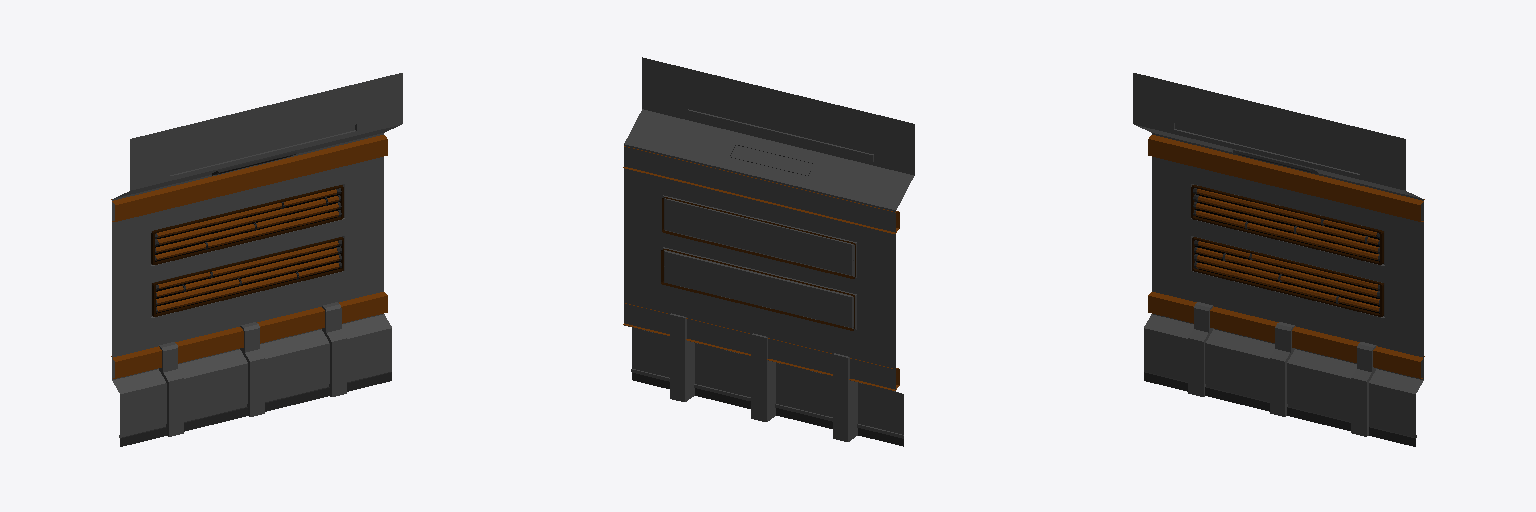
Rendered from Wall_5.obj.
3 views of the same model, side by side, from view 1: azimuth 30°, elevation 25°; view 2: azimuth 150°, elevation 25°; view 3: azimuth 330°, elevation 25° (orthographic).
Visible parts, largest first — view 1: Wall_5_Plane.113; view 2: Wall_5_Plane.113; view 3: Wall_5_Plane.113.
Part boxes in pixels (bbox=[...]): Wall_5_Plane.113: bbox=[111, 73, 402, 446]; Wall_5_Plane.113: bbox=[623, 57, 914, 446]; Wall_5_Plane.113: bbox=[1133, 73, 1424, 446].
Bounding box in the file's own units: 4 × 4.43 × 0.5279.